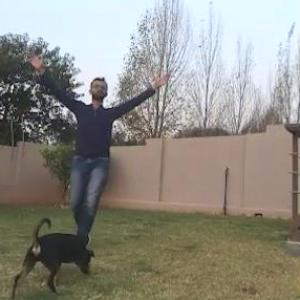takeoff: (0, 35, 174, 252)
